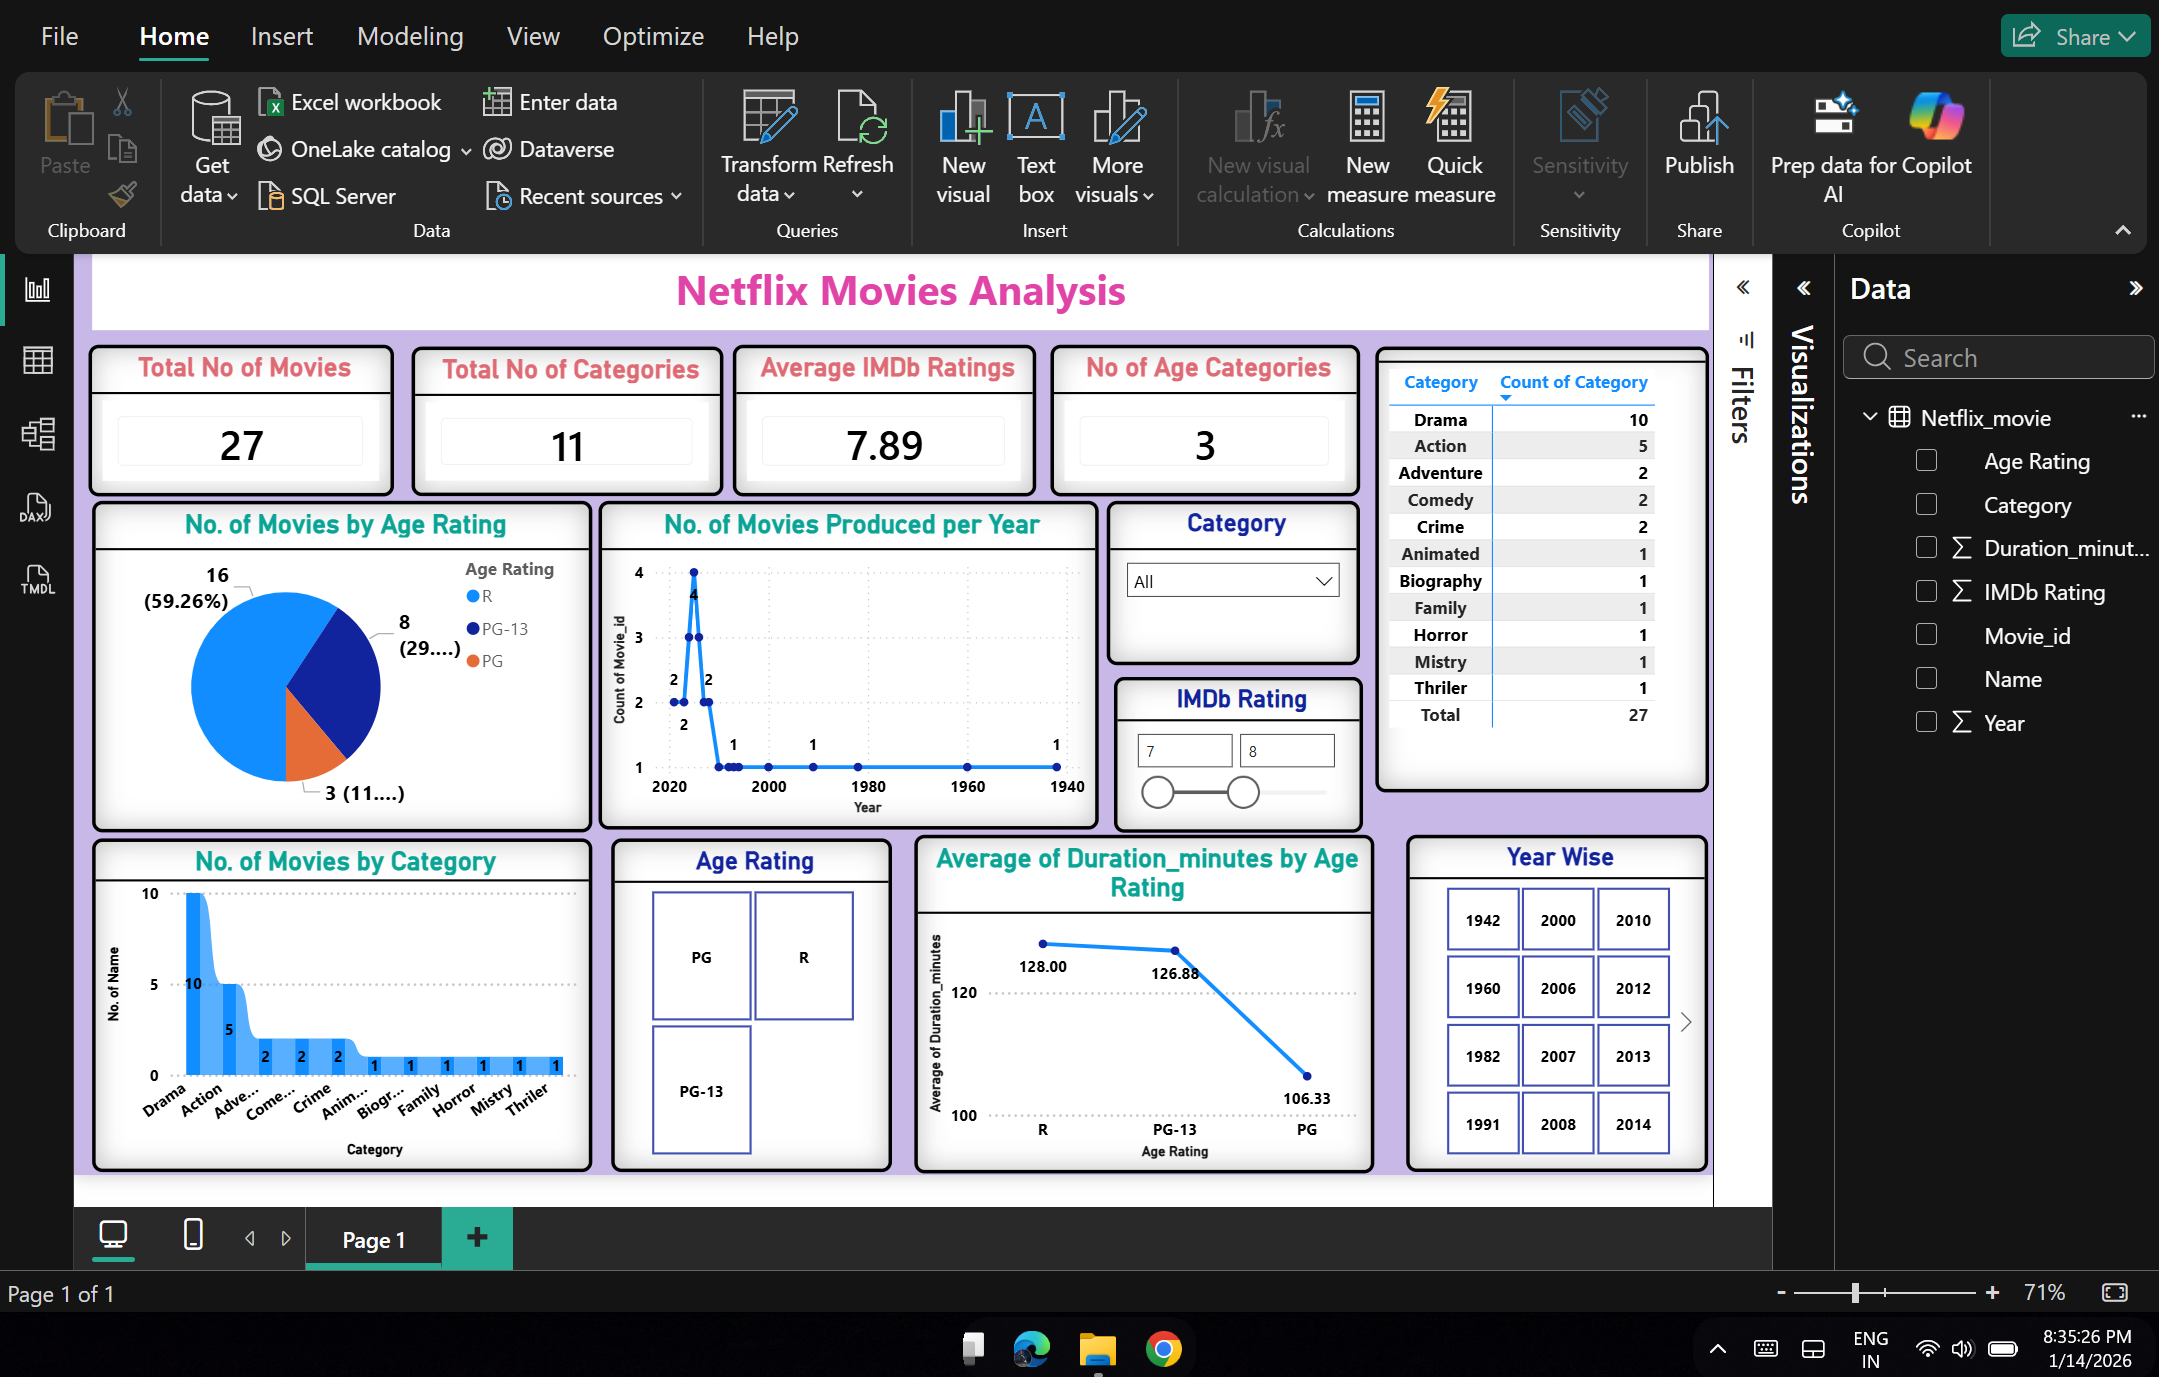

Layout of this report page (visuals, bound fields, positions):
{"tool":"powerbi","page":{"name":"Page 1","canvas":[1280,720],"ordinal":0},"visuals":[{"type":"cardVisual","title":"Total No of Movies","fields":{"Data":["CountNonNull(Netflix_movie.Movie_id)"]},"box":[11.8,71,238.4,118.4],"z":0},{"type":"cardVisual","title":"Total No of Categories","fields":{"Data":["Count(Netflix_movie.Category)"]},"box":[263.8,72.7,243.5,116.7],"z":1000},{"type":"cardVisual","title":"Average IMDb Ratings","fields":{"Data":["Avg(Netflix_movie.IMDb Rating)"]},"box":[514,71,236.7,118.4],"z":2000},{"type":"cardVisual","title":"No of Age Categories","fields":{"Data":["Count(Netflix_movie.Age Rating)"]},"box":[762.6,71,241.8,118.4],"z":3000},{"type":"pieChart","title":"No. of Movies by Age Rating","fields":{"Y":["CountNonNull(Netflix_movie.Category)"],"Category":["Netflix_movie.Age Rating"]},"box":[13.5,192.8,390.6,258.7],"z":4000},{"type":"lineChart","title":"No. of Movies Produced per Year","fields":{"Category":["Netflix_movie.Year"],"Y":["Count(Netflix_movie.Movie_id)"]},"box":[409.2,192.8,390.6,257],"z":5000},{"type":"ribbonChart","title":"No. of Movies by Category","fields":{"Category":["Netflix_movie.Category"],"Y":["CountNonNull(Netflix_movie.Name)"]},"box":[13.7,456.4,390.6,260.4],"z":6000},{"type":"pivotTable","fields":{"Rows":["Netflix_movie.Category"],"Values":["CountNonNull(Netflix_movie.Category)"]},"box":[1016.2,72.7,260.4,348.3],"z":7000},{"type":"slicer","title":"Age Rating","fields":{"Values":["Netflix_movie.Age Rating"]},"box":[419.4,456.4,219.3,260.4],"z":8000},{"type":"slicer","title":"Category","fields":{"Values":["Netflix_movie.Category"]},"box":[806.6,192.8,197.8,128.5],"z":9000},{"type":"slicer","title":"Year Wise","fields":{"Values":["Netflix_movie.Year"]},"box":[1040.3,453.7,235.7,263.2],"z":10000},{"type":"slicer","title":"IMDb Rating","fields":{"Values":["Netflix_movie.IMDb Rating"]},"box":[811.6,329.7,194.5,121.7],"z":11000},{"type":"lineChart","fields":{"Y":["Avg(Netflix_movie.Duration_minutes)"],"Category":["Netflix_movie.Age Rating"]},"box":[656.5,453.7,359.1,264.5],"z":12000},{"type":"textbox","box":[14.2,0,1263,59.5],"z":12001}]}

Visuals, with their boxes on the page's 1280x720 design canvas (x1, y1, x2, y2). These are canvas units, not pixel positions in the 2159x1377 screenshot, which may show the page scaled, cropped or inside an application window:
"Total No of Movies" cardVisual: 12 71 250 189
"Total No of Categories" cardVisual: 264 73 507 189
"Average IMDb Ratings" cardVisual: 514 71 751 189
"No of Age Categories" cardVisual: 763 71 1004 189
"No. of Movies by Age Rating" pieChart: 14 193 404 452
"No. of Movies Produced per Year" lineChart: 409 193 800 450
"No. of Movies by Category" ribbonChart: 14 456 404 717
pivotTable - Netflix_movie.Category x CountNonNull(Netflix_movie.Category): 1016 73 1277 421
"Age Rating" slicer: 419 456 639 717
"Category" slicer: 807 193 1004 321
"Year Wise" slicer: 1040 454 1276 717
"IMDb Rating" slicer: 812 330 1006 451
lineChart - Avg(Netflix_movie.Duration_minutes) x Netflix_movie.Age Rating: 656 454 1016 718
textbox: 14 0 1277 60
